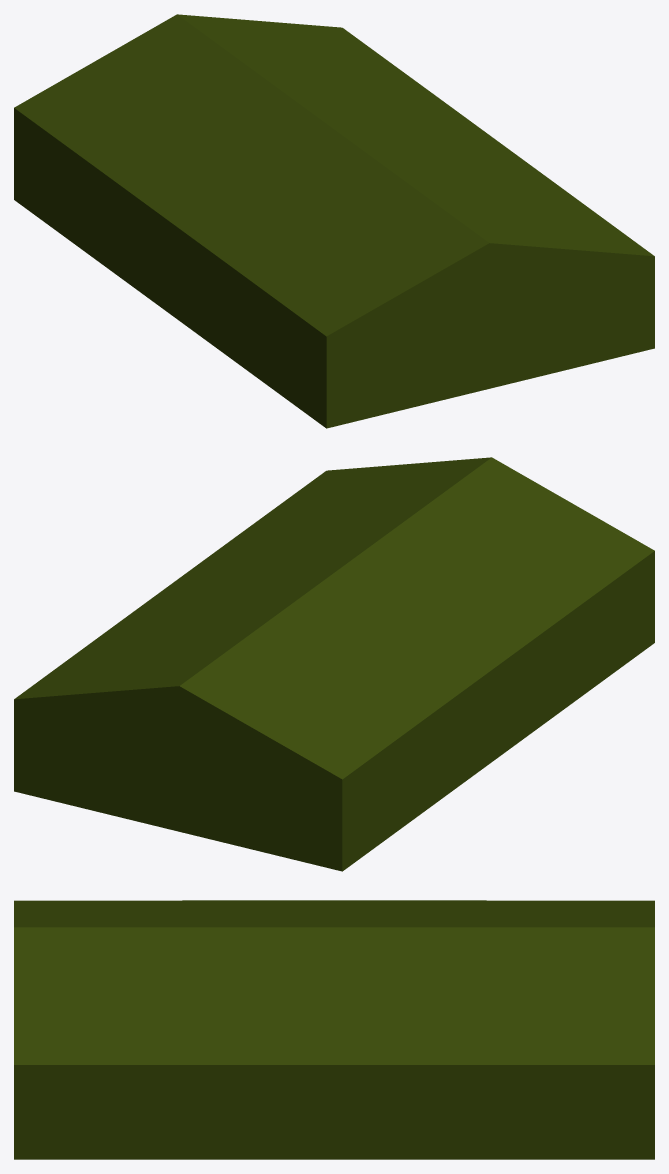
Rendered from Tents01A_M.fbx.
3 renders of one model, top to bottom at view 1: azimuth 30°, elevation 25°; view 2: azimuth 150°, elevation 25°; view 3: azimuth 270°, elevation 25°, orthographic. The views are drawn at different scales.
Parts seen in each view (by area): view 1: Tents01A; view 2: Tents01A; view 3: Tents01A.
Part boxes in pixels (x1=…): Tents01A: x1=14, y1=14, x2=654, y2=428; Tents01A: x1=14, y1=457, x2=654, y2=871; Tents01A: x1=14, y1=900, x2=654, y2=1159.
Bounding box in the file's own units: 4.56 × 1.93 × 7.51.
